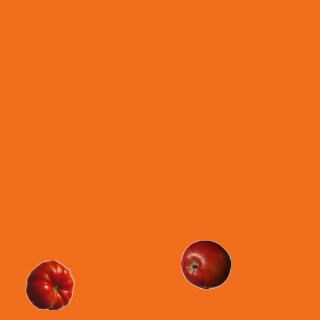Apple Braeburn: (180, 239, 230, 289)
Tomato 3: (24, 259, 74, 309)
